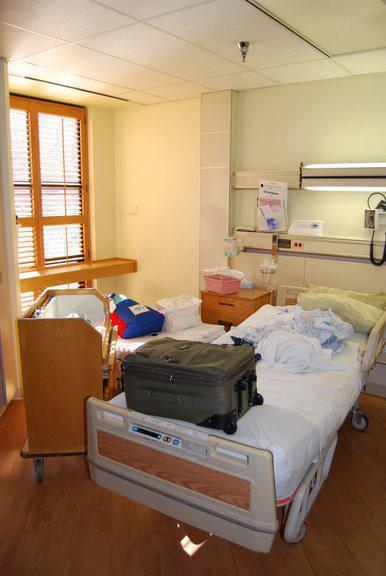Cama: (76, 295, 385, 527), (13, 288, 112, 475)
Ventana: (11, 96, 87, 272)
